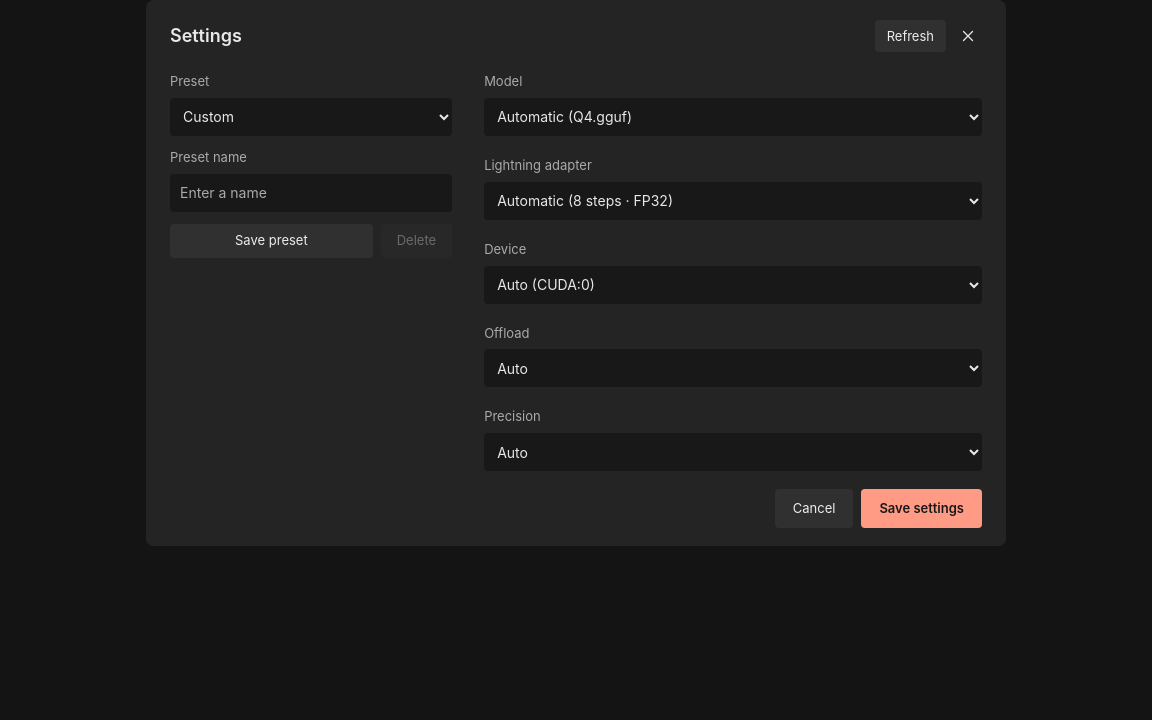
Test case: settings modal › updates runtime capabilities and offers no FP16 precision
This screenshot has width=1152, height=720.
Select "Sequential" in the dropdown labelled "Offload" at (733, 368), box x1=484 y1=349 x2=982 y2=387
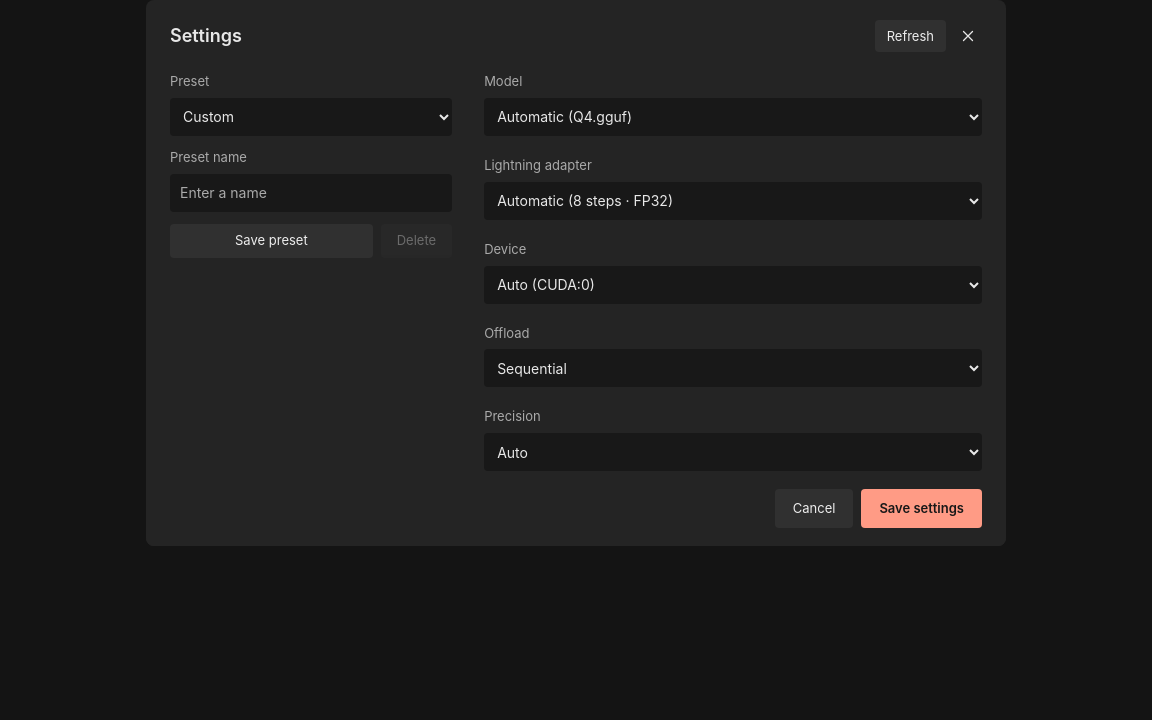
Select "CPU" in the dropdown labelled "Device" at (733, 284), box x1=484 y1=266 x2=982 y2=304
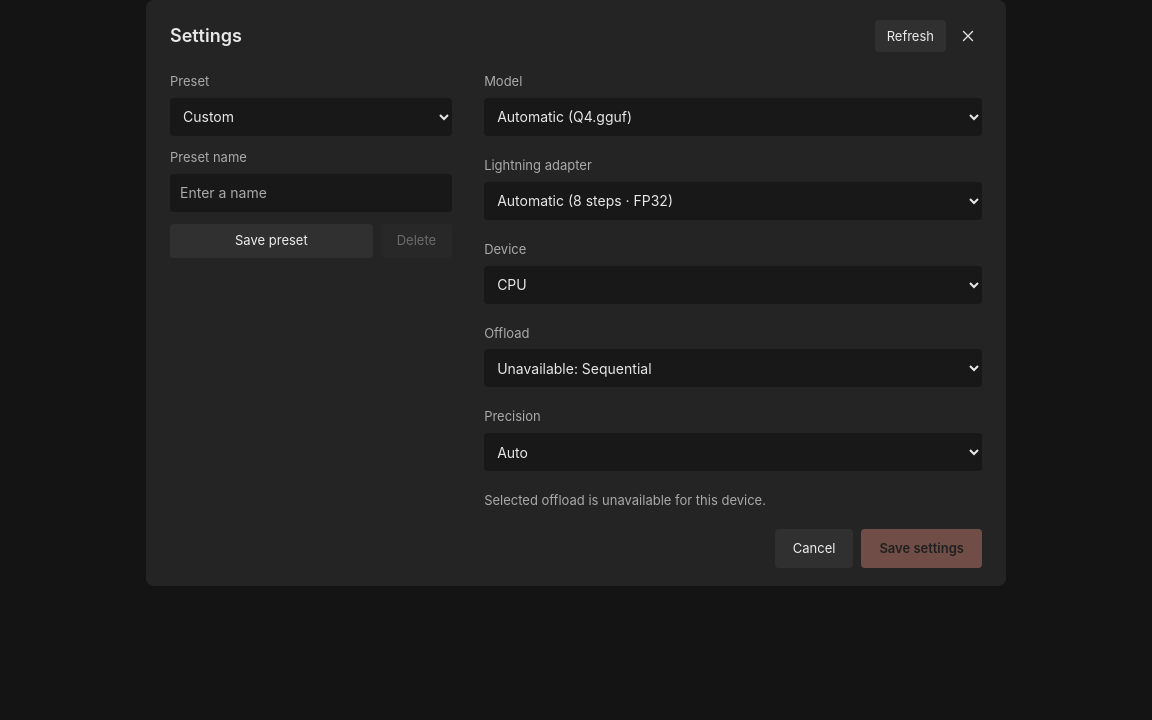
expect the message shows "offload": met, box x1=484 y1=492 x2=766 y2=508
